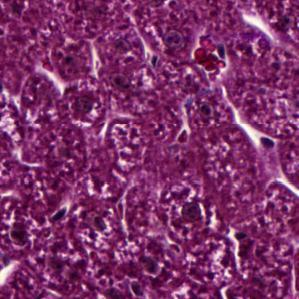inflammation: (189, 45, 229, 78), (175, 196, 208, 228)
